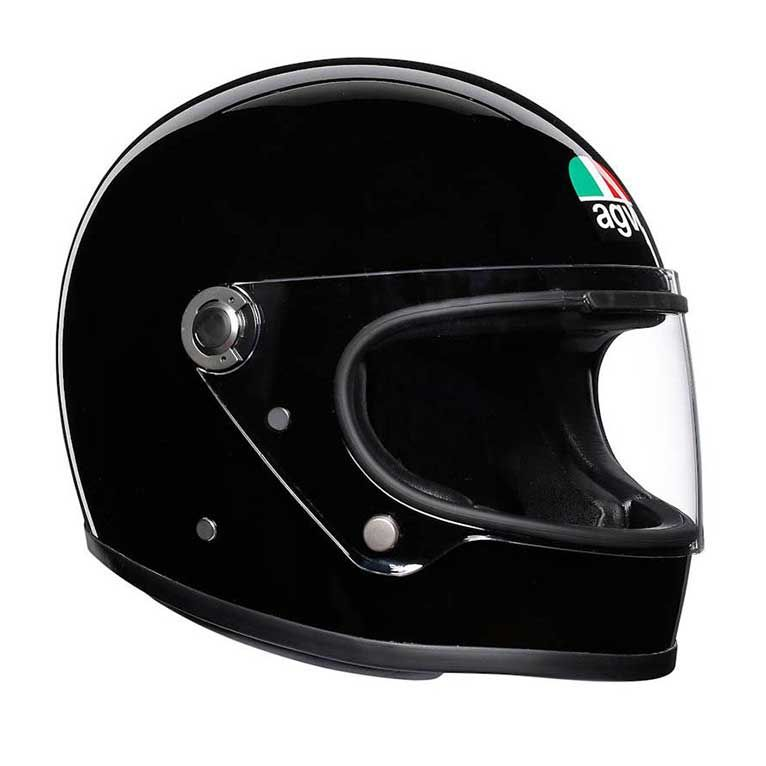with_helmet: (58, 51, 706, 714)
